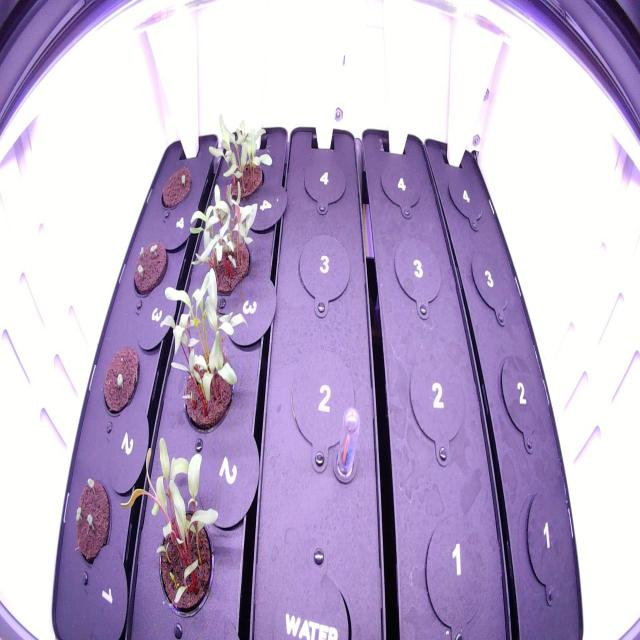empty_pod: (419, 497, 490, 638), (398, 337, 469, 466), (284, 342, 359, 464), (521, 483, 575, 608), (493, 347, 551, 454), (466, 235, 520, 338), (388, 228, 446, 320), (291, 228, 352, 312), (442, 158, 492, 231), (376, 150, 428, 219), (297, 148, 350, 212)
germination: (183, 176, 264, 299), (205, 106, 278, 212), (70, 468, 114, 570), (98, 339, 142, 417), (126, 233, 170, 303), (156, 160, 195, 214)
